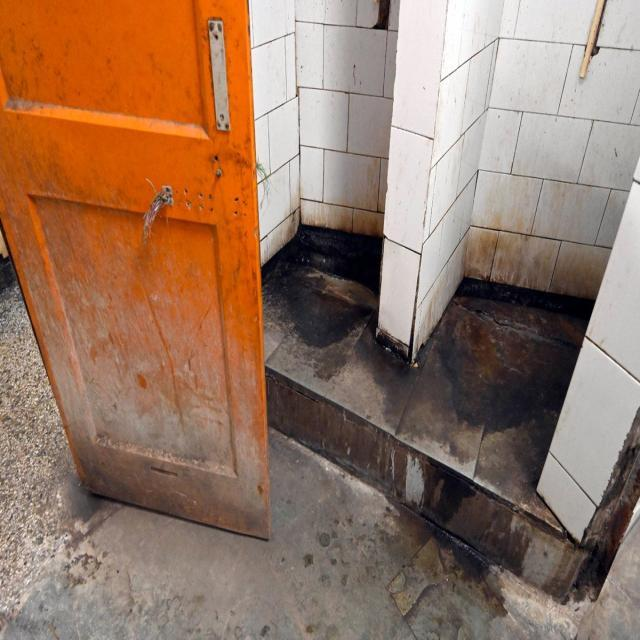dirty_floor: (1, 1, 638, 637), (260, 225, 598, 600), (26, 188, 241, 480), (393, 276, 594, 537)
